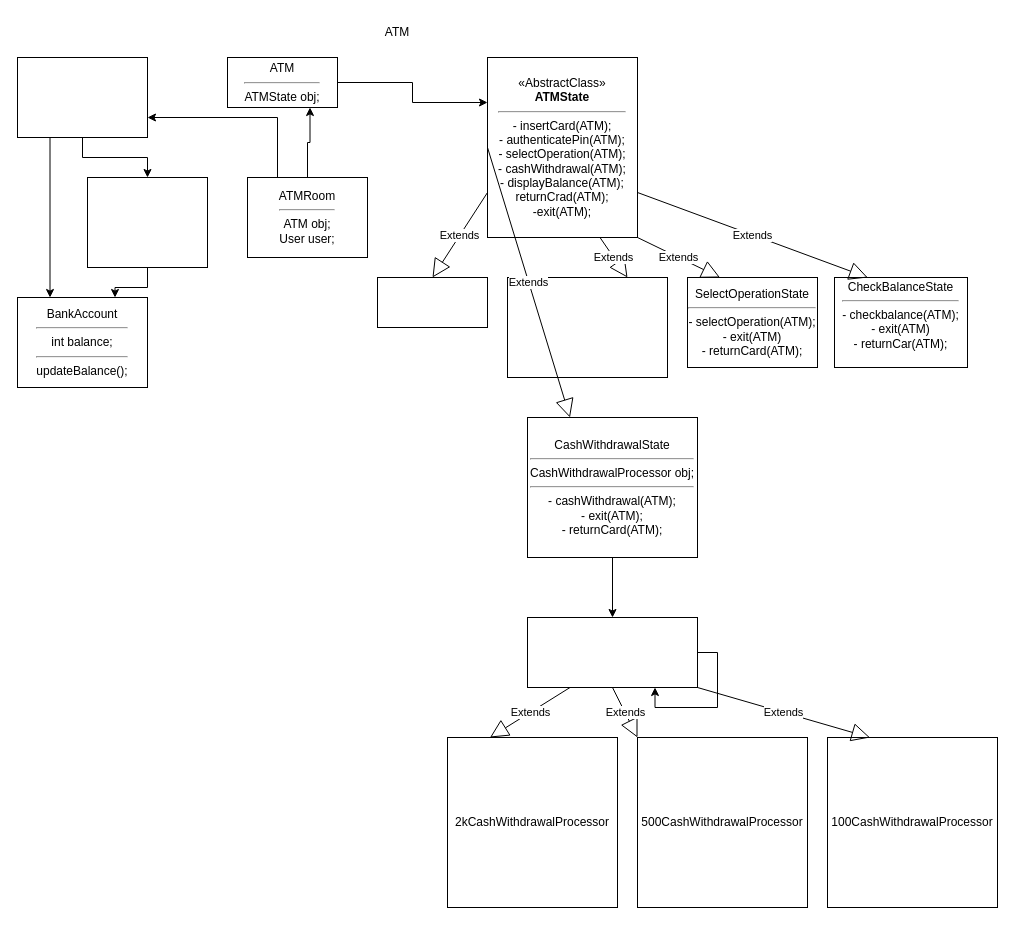
This 1015x925 diagram has some shape labels left out. The centre of each missing label's shape, as x and y in pixels:
"<<AbstractClass>> CashWithdrawalProcessor CashWithdrawalProcessor obj;" belongs at (x=612, y=652).
"Card int cvv; int pin; BankAccount obj;" belongs at (x=147, y=222).
"HasCardState - authenticatePin(ATM,Card); - exit(ATM); - returnCard(ATM);" belongs at (x=587, y=327).
"IdleState - insertCard(ATM)" belongs at (x=432, y=302).
"User Card obj; BankAccount obj;" belongs at (x=82, y=97).
